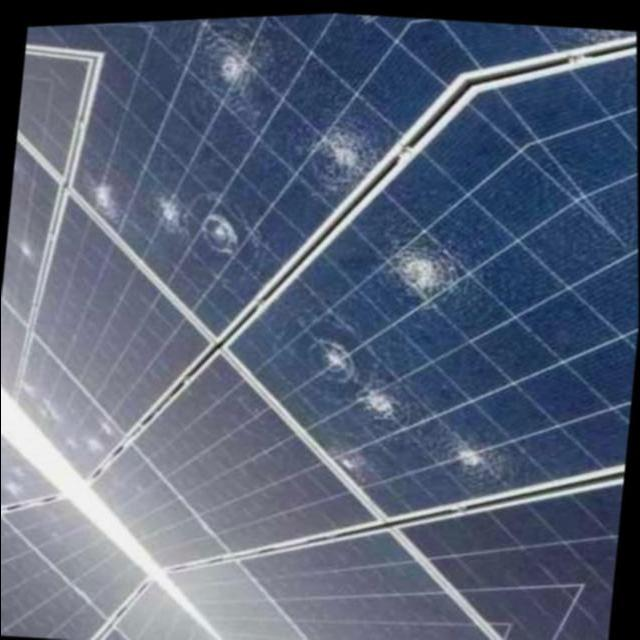cracked: (268, 150, 626, 507), (80, 20, 428, 317), (18, 353, 114, 467)
